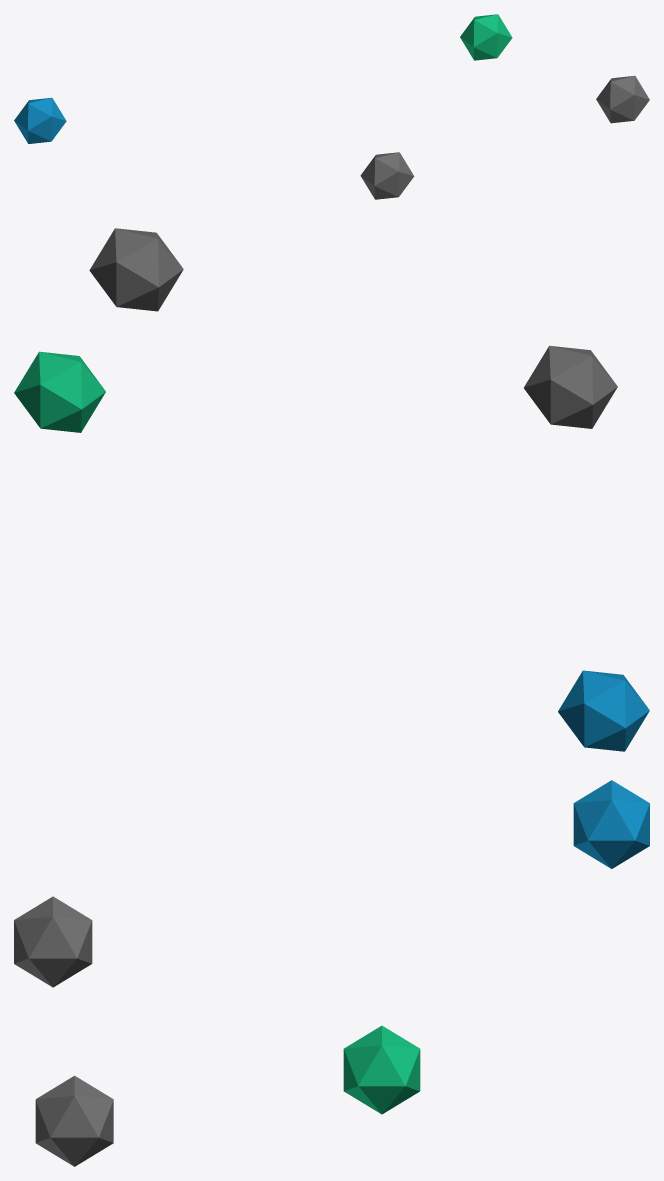
3 views of the same model, one above another, from view 1: azimuth 30°, elevation 25°; view 2: azimuth 150°, elevation 25°; view 3: azimuth 270°, elevation 25° (orthographic). The views are drawn at different scales.
Parts seen in each view (by area): view 1: 07_00_00; view 2: 07_00_00; view 3: 07_00_00.
Boxes of the visible parts, x1,y1,x2,y2 form: 07_00_00: [14, 14, 649, 199]; 07_00_00: [14, 228, 649, 751]; 07_00_00: [14, 780, 649, 1166].
Size of the model in its own units: 0.6486 by 0.1084 by 0.4519.
